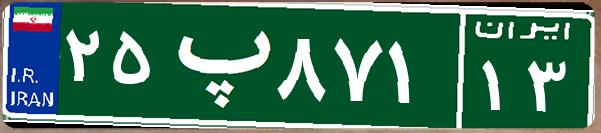1: (385, 28, 445, 110), (475, 38, 525, 113)
2: (57, 26, 110, 107)
3: (525, 38, 570, 115)
5: (110, 28, 158, 105)
7: (330, 28, 385, 110)
8: (273, 28, 330, 110)
پ: (158, 15, 273, 115)
